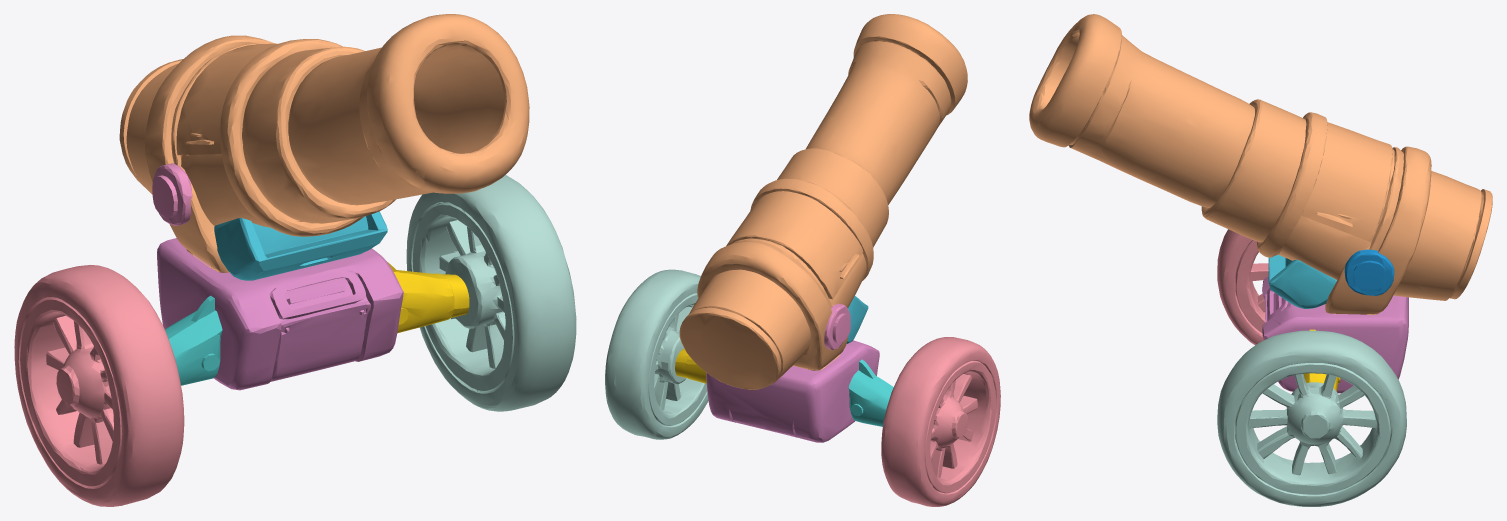
3 views of the same model, side by side, from view 1: azimuth 30°, elevation 25°; view 2: azimuth 150°, elevation 25°; view 3: azimuth 270°, elevation 25° (orthographic). The views are drawn at different scales.
Parts seen in each view (by area): view 1: root.0, root.1, root.2, root.3, root.4, root.6, root.5, root.8; view 2: root.0, root.1, root.2, root.3, root.5, root.8, root.6, root.4; view 3: root.0, root.2, root.3, root.1, root.4, root.7.
Part boxes in pixels (x1,y1,x2,y2): root.0: (119, 14, 529, 272); root.1: (14, 265, 184, 506); root.2: (406, 175, 576, 411); root.3: (157, 238, 403, 390); root.4: (214, 211, 387, 280); root.6: (387, 262, 469, 333); root.5: (165, 295, 222, 385); root.8: (152, 163, 192, 225); root.0: (679, 14, 967, 389); root.1: (881, 337, 1000, 506); root.2: (605, 269, 708, 439); root.3: (706, 340, 879, 442); root.5: (848, 359, 893, 426); root.8: (824, 303, 850, 349); root.6: (675, 348, 706, 383); root.4: (846, 296, 868, 343); root.0: (1029, 14, 1492, 314); root.2: (1217, 330, 1406, 506); root.3: (1262, 276, 1408, 393); root.1: (1217, 229, 1268, 345); root.4: (1268, 254, 1336, 308); root.7: (1344, 249, 1394, 295).
Size of the model in its own units: 153 by 170 by 175.
